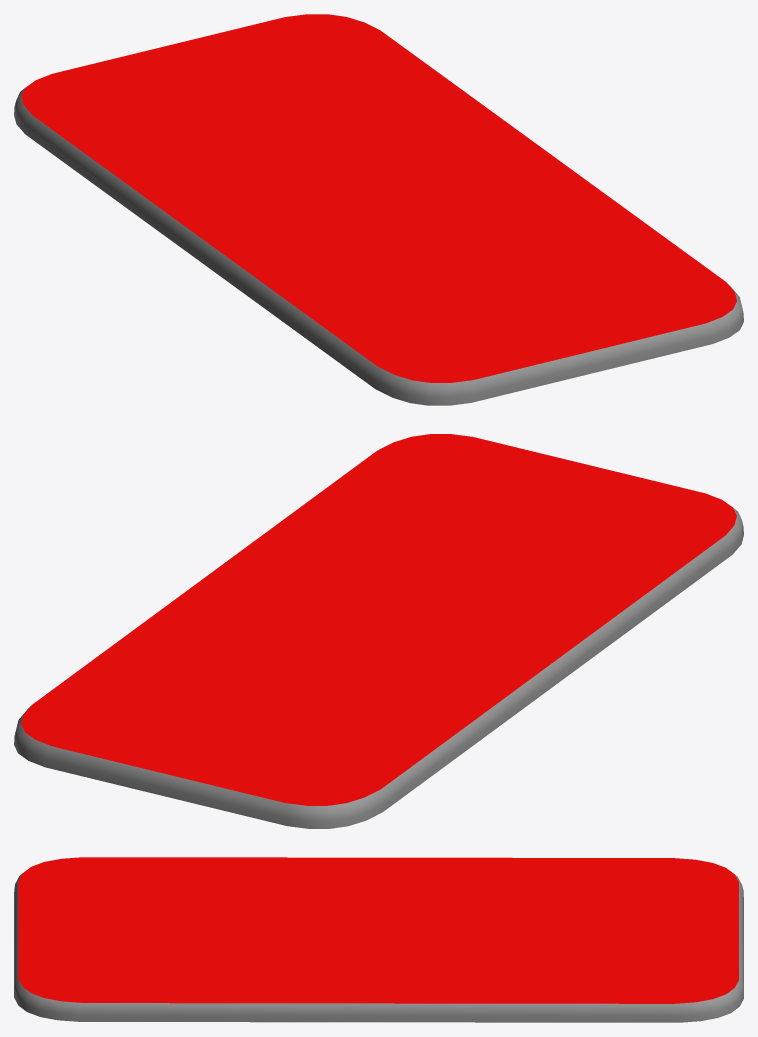
The model's file is Basic_Smartphone.FBX.
The picture shows the model from 3 angles, top to bottom: view 1: azimuth 30°, elevation 25°; view 2: azimuth 150°, elevation 25°; view 3: azimuth 270°, elevation 25°; orthographic projection. The views are drawn at different scales.
Parts seen in each view (by area): view 1: Basic_Smartphone; view 2: Basic_Smartphone; view 3: Basic_Smartphone.
Boxes of the visible parts, x1,y1,x2,y2 form: Basic_Smartphone: (14,14,743,405); Basic_Smartphone: (14,434,743,828); Basic_Smartphone: (14,857,743,1022).
Bounding box in the file's own units: 0.102 × 0.00586 × 0.2105.
